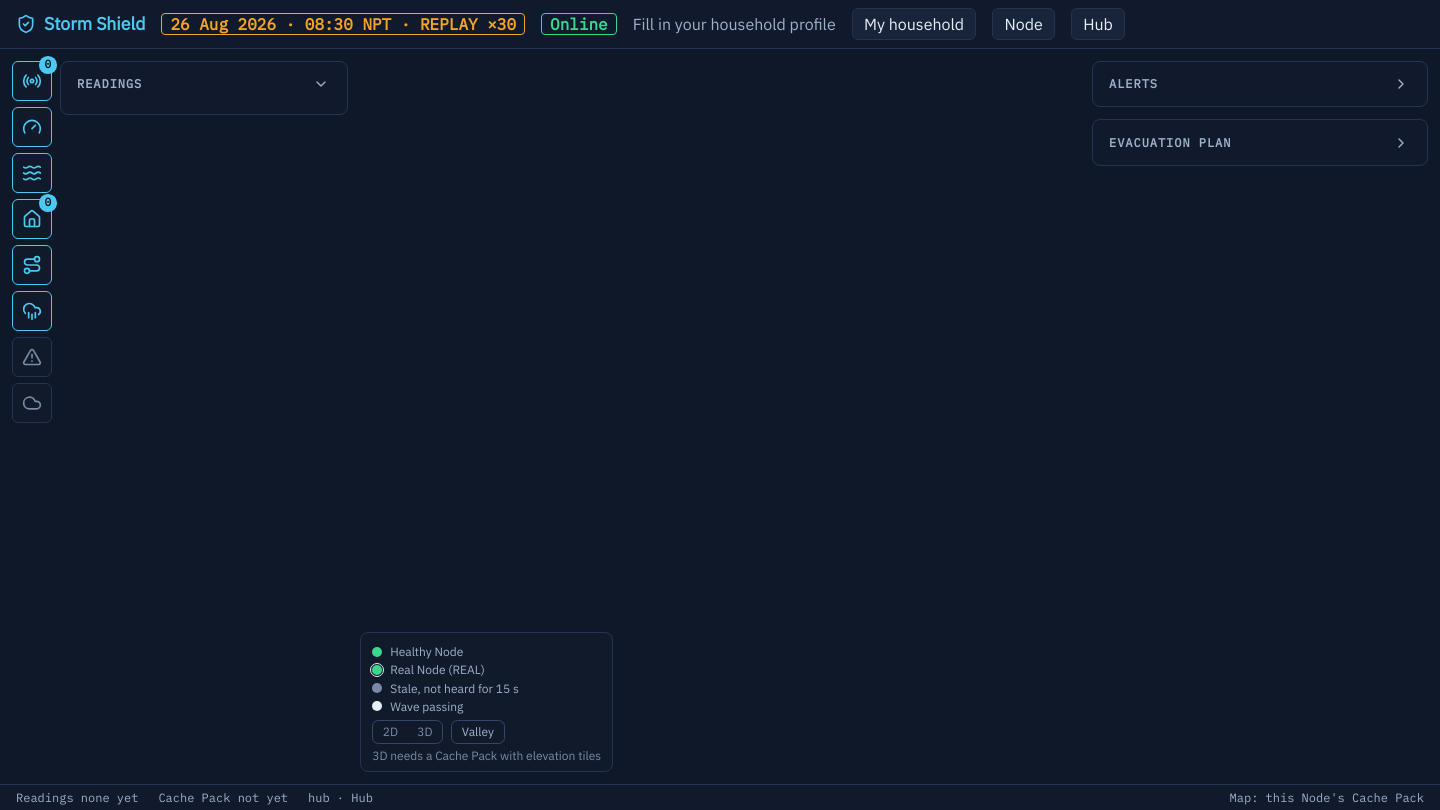
Test case: a running Event is labelled REPLAY beside its clock
The image size is (1440, 810).
Click the button "Hub" at [1098, 24], box [1071,8,1125,40]
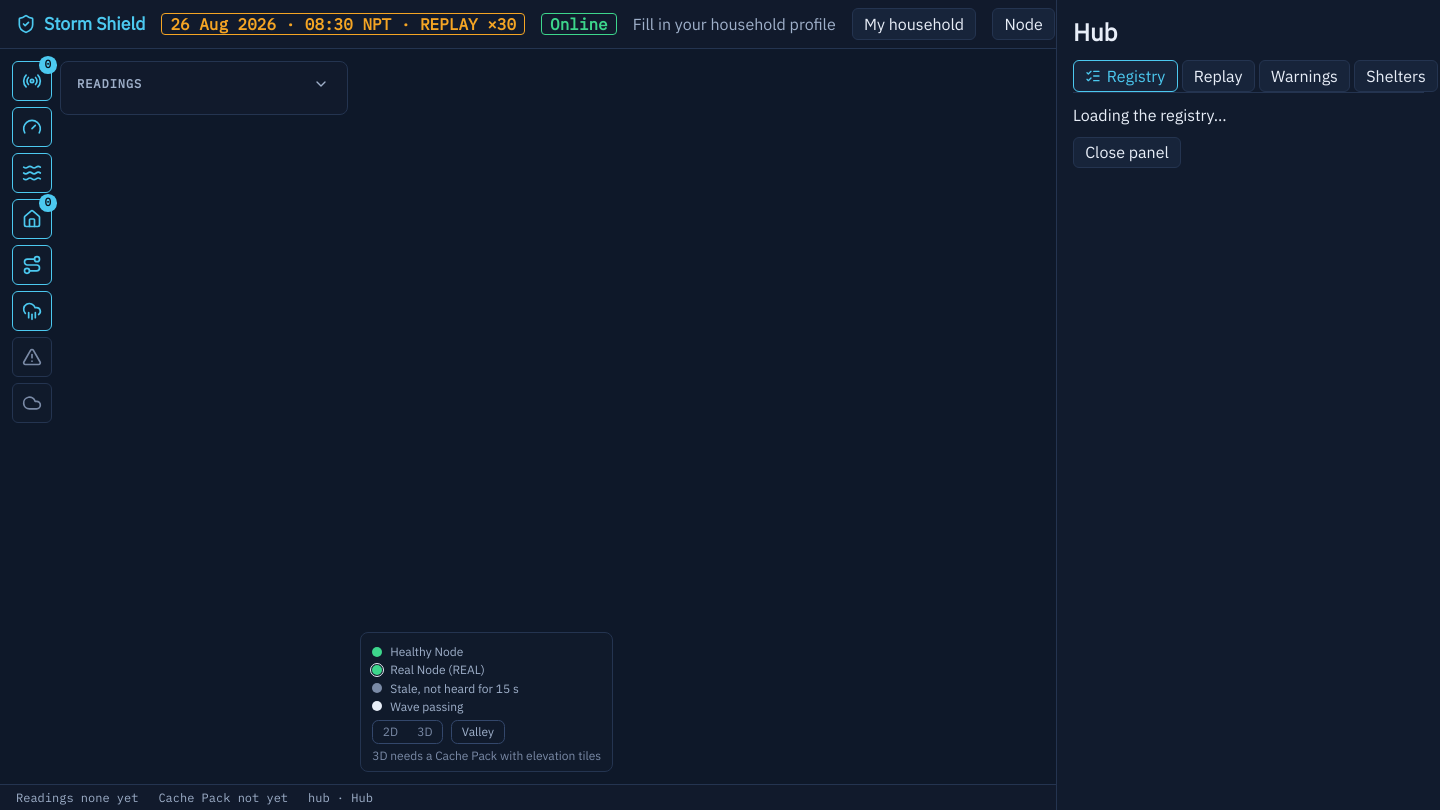
Click the tab "Replay" at [1218, 76], box [1182,60,1255,92]
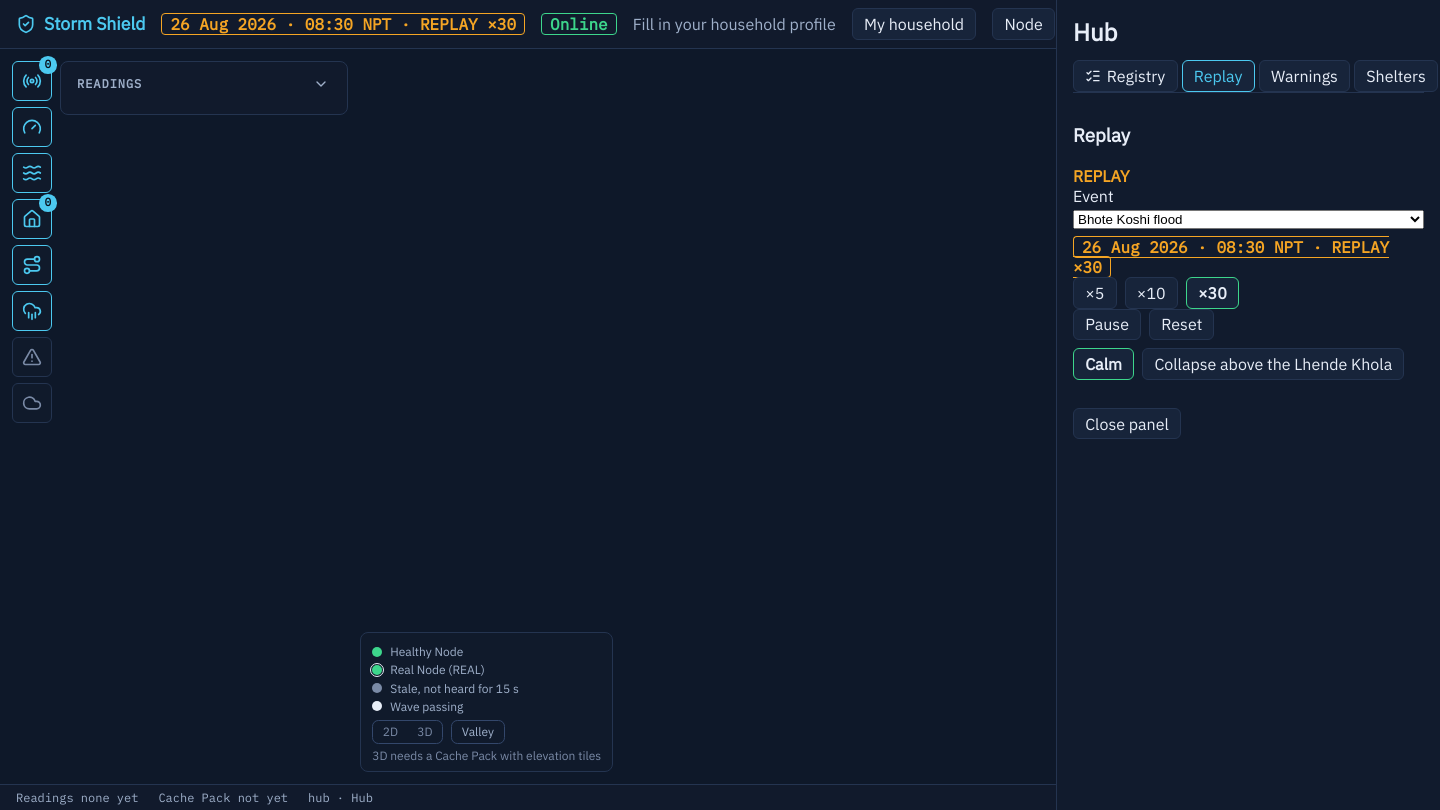
Result: the text "REPLAY" is shown at [1073,166,1130,186]
Result: the text "26 Aug 2026 · 08:30 NPT · REPLAY ×30" below "Event" is shown at [1073,237,1389,277]
